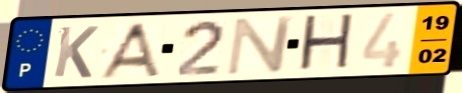2: (175, 18, 229, 78)
4: (358, 11, 406, 71)
A: (95, 21, 164, 80)
H: (295, 12, 357, 75)
K: (50, 24, 101, 80)
N: (224, 14, 297, 77)
